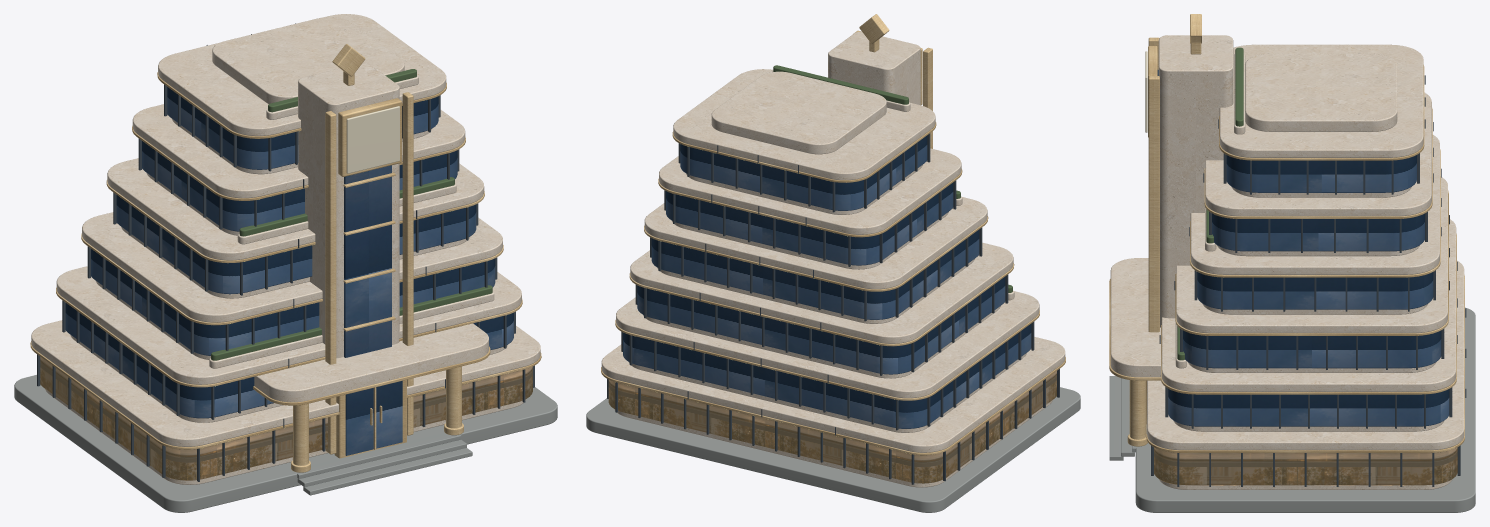
The model's file is level-5-web.glb.
The picture shows the model from 3 angles, left to right: view 1: azimuth 30°, elevation 25°; view 2: azimuth 150°, elevation 25°; view 3: azimuth 270°, elevation 25°; orthographic projection. The views are drawn at different scales.
Parts seen in each view (by area): view 1: body, floors, entrance, foundation, roof, details, sign; view 2: body, floors, foundation, roof, details; view 3: body, floors, roof, foundation, entrance, details, sign.
Part boxes in pixels (x1=…): body: x1=37, y1=63, x2=534, y2=484; floors: x1=30, y1=14, x2=541, y2=449; entrance: x1=253, y1=323, x2=490, y2=495; foundation: x1=14, y1=375, x2=557, y2=512; roof: x1=212, y1=17, x2=404, y2=103; details: x1=206, y1=23, x2=494, y2=427; sign: x1=338, y1=98, x2=401, y2=176; body: x1=607, y1=30, x2=1059, y2=487; floors: x1=601, y1=69, x2=1065, y2=455; foundation: x1=586, y1=387, x2=1080, y2=512; roof: x1=711, y1=14, x2=889, y2=154; details: x1=687, y1=65, x2=1014, y2=435; body: x1=1148, y1=35, x2=1460, y2=489; floors: x1=1146, y1=44, x2=1464, y2=452; roof: x1=1190, y1=14, x2=1397, y2=131; foundation: x1=1135, y1=307, x2=1475, y2=512; entrance: x1=1109, y1=258, x2=1160, y2=460; details: x1=1159, y1=47, x2=1466, y2=397; sign: x1=1145, y1=45, x2=1157, y2=137.
Size of the model in its own units: 6.5 by 6.33 by 5.18.
Materials: 9 (4 with a texture image).
